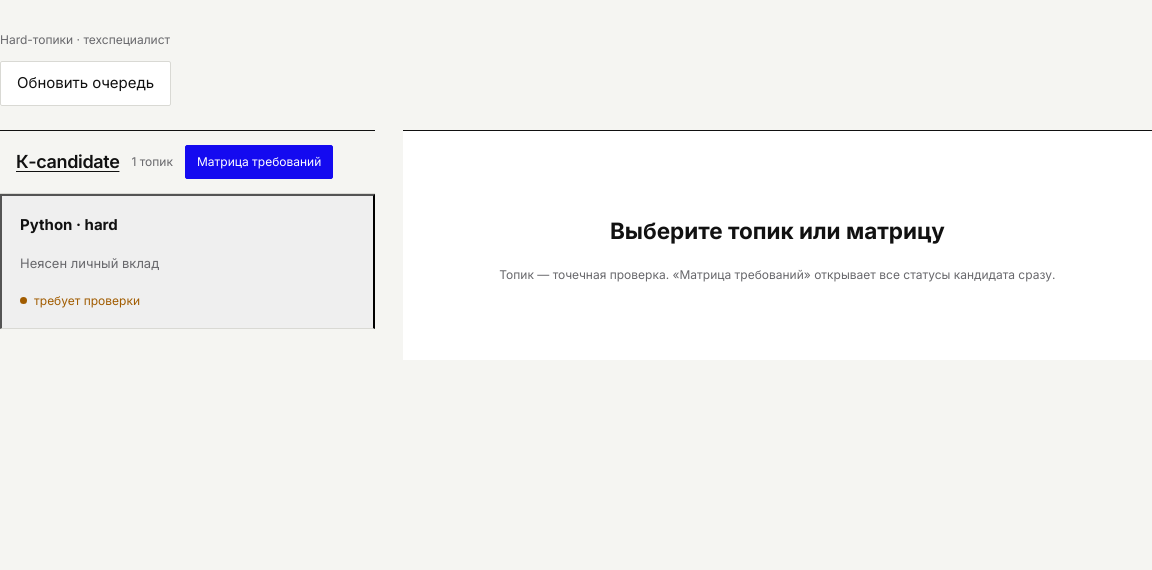
Test case: shows context, allows an optional comment and refreshes the result after saving
This screenshot has width=1152, height=570.
Click the button with aria-label "К-candidate: Python · hard" at (46,224), box [0,194,375,329]
(page scrolled)
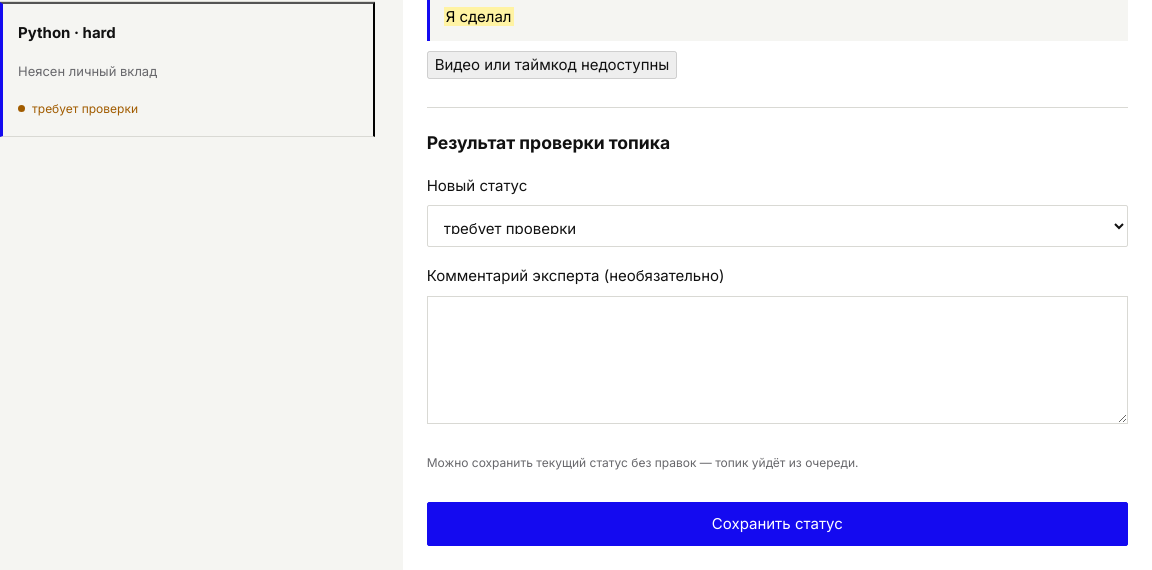
expect the text "Неясен личный вклад" is shown: met, box [18,62,157,82]
expect the text "Я сделал" is shown: met, box [444,8,514,26]
expect the button "Сохранить статус" is enabled: met, box [427,502,1128,546]
Type "Проверил видео" into the text box labelled "Комментарий эксперта (необязательно)" at (777,360), box [427,296,1128,424]
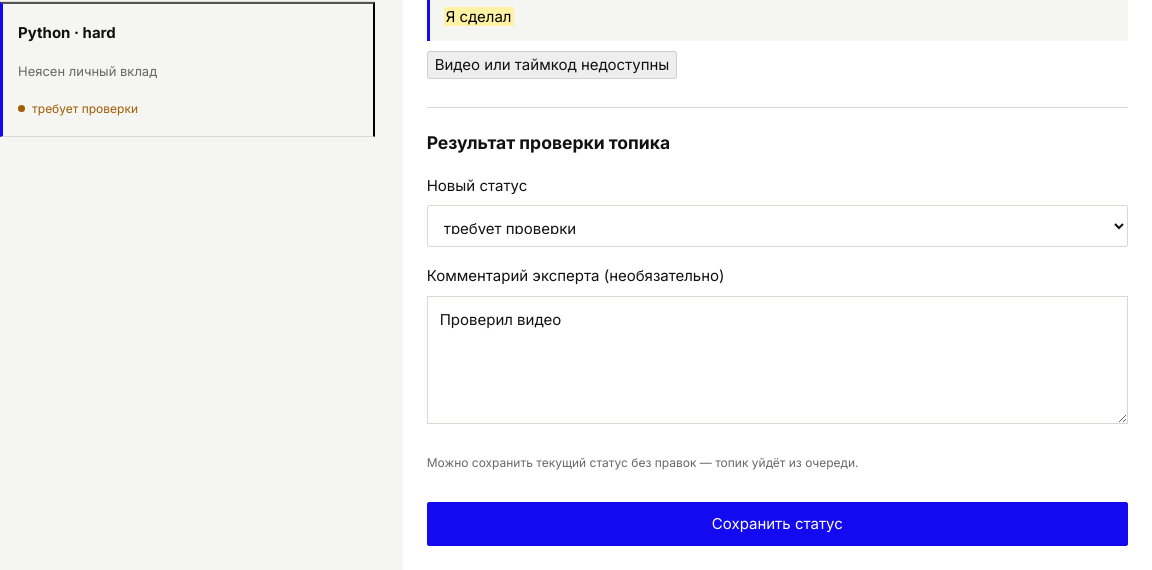
Select "подтверждено" in the dropdown labelled "Новый статус" at (777,226), box [427,205,1128,247]
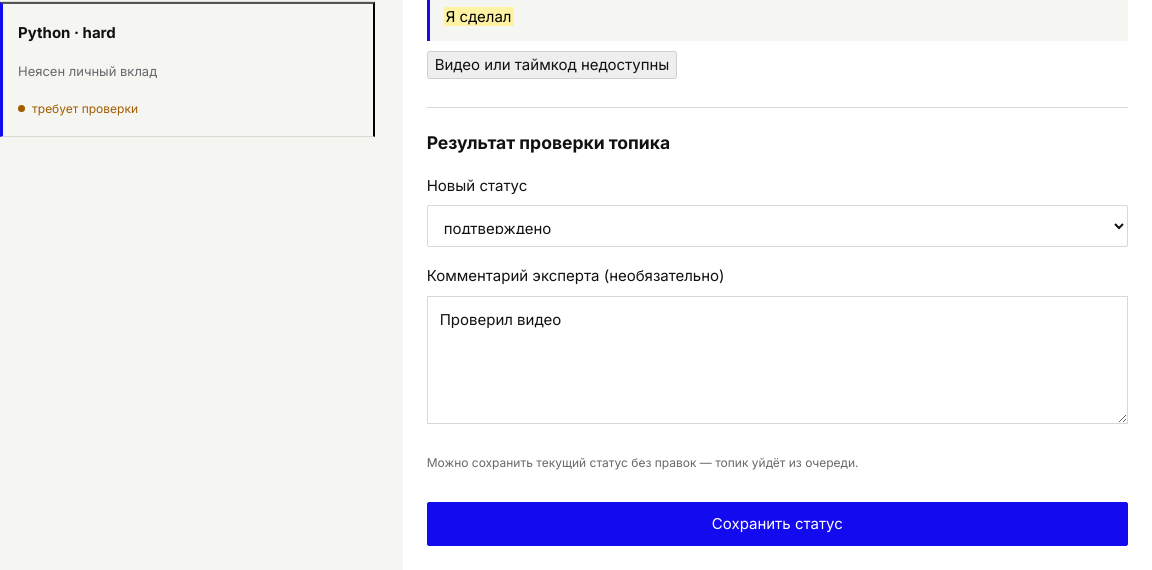
Click the button "Сохранить статус" at (777,524), box [427,502,1128,546]
(page scrolled)
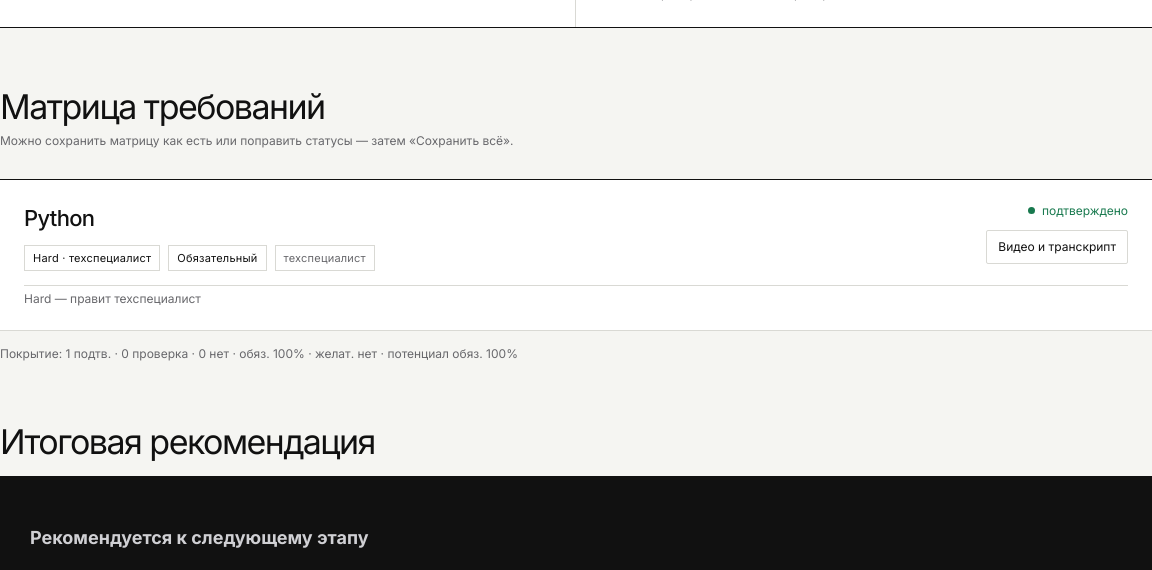
expect the text "подтверждено" is shown: met, box [1028,202,1128,220]
